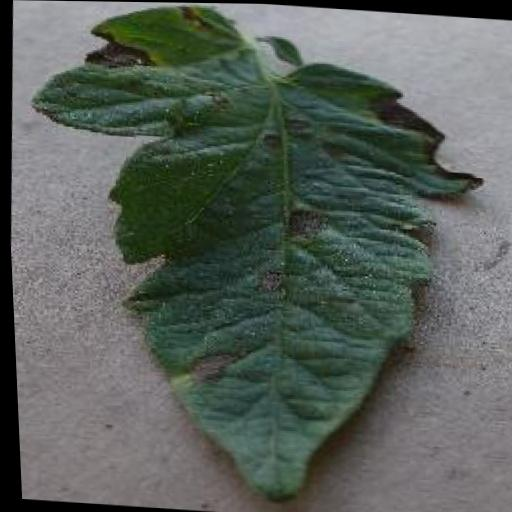Early Blight: (6, 0, 498, 512)
